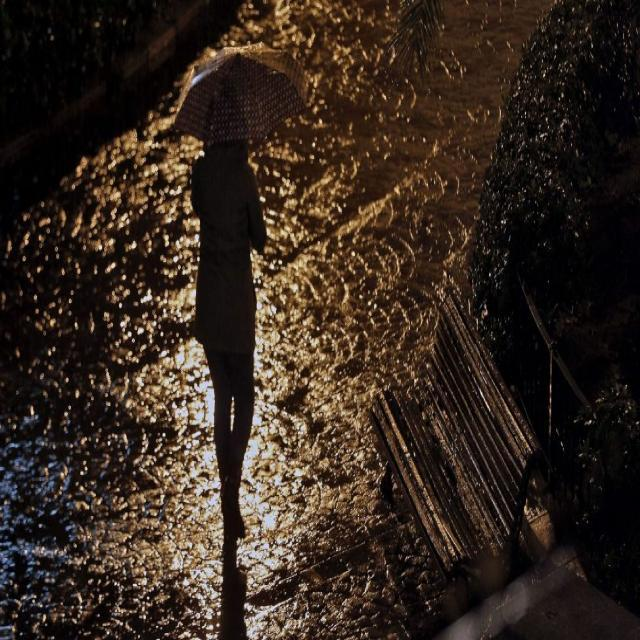person: (182, 141, 294, 531)
